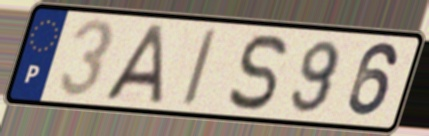3: (57, 17, 118, 102)
6: (344, 40, 399, 123)
9: (292, 38, 343, 117)
A: (101, 22, 167, 105)
I: (179, 26, 221, 110)
S: (225, 31, 290, 114)
